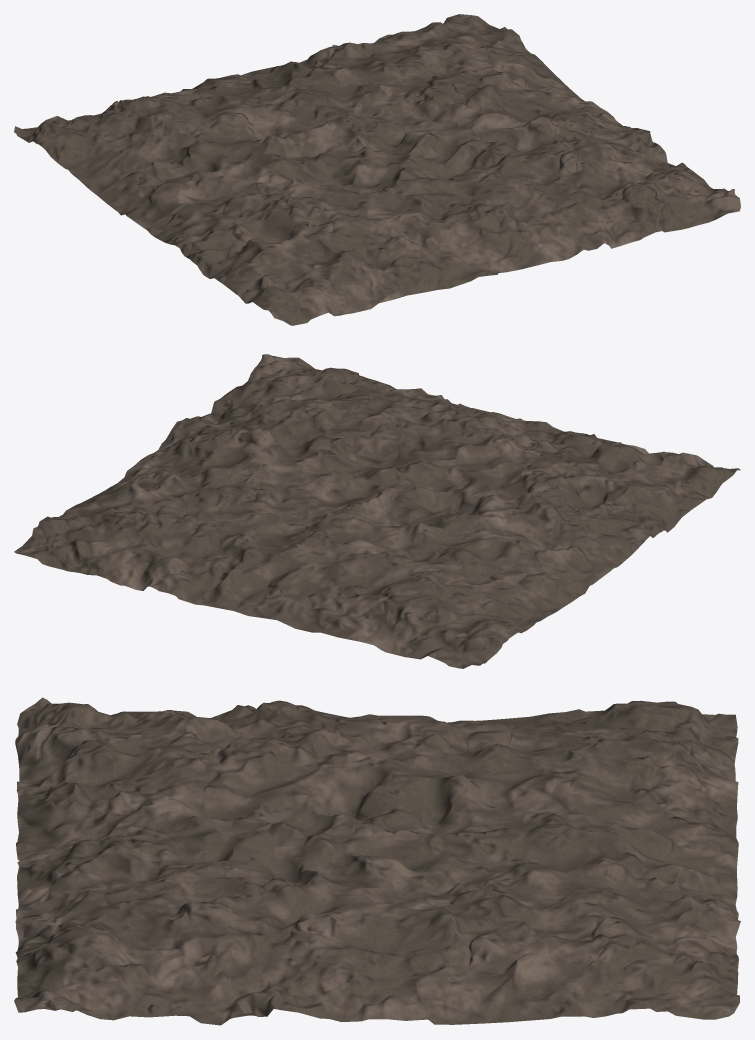
The model's file is SM_FloorMud_4x4_01.glb.
3 views of the same model, one above another, from view 1: azimuth 30°, elevation 25°; view 2: azimuth 150°, elevation 25°; view 3: azimuth 270°, elevation 25° (orthographic). The views are drawn at different scales.
Parts seen in each view (by area): view 1: SM_FloorMud_4x4_01; view 2: SM_FloorMud_4x4_01; view 3: SM_FloorMud_4x4_01.
Part boxes in pixels (bbox=[...]): SM_FloorMud_4x4_01: bbox=[14, 14, 740, 325]; SM_FloorMud_4x4_01: bbox=[14, 354, 740, 668]; SM_FloorMud_4x4_01: bbox=[14, 697, 740, 1025].
Bounding box in the file's own units: 4.04 × 0.32 × 4.02.
1 material, 1 textured.
